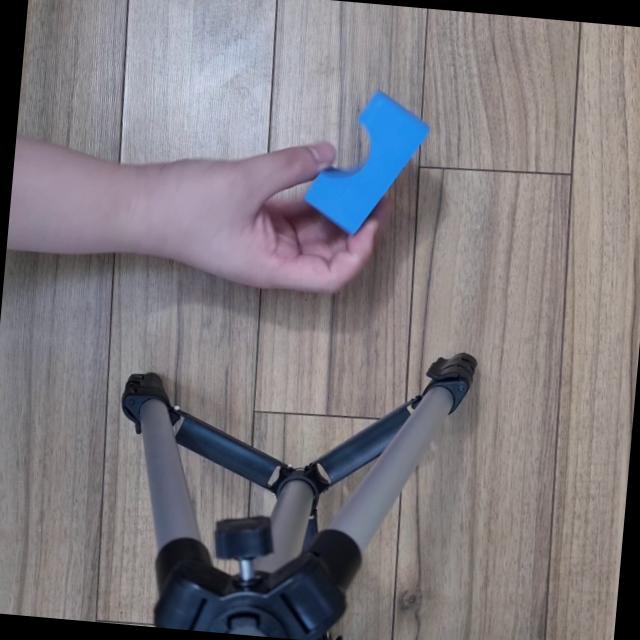block: (289, 86, 437, 240)
hand: (143, 130, 412, 329)
